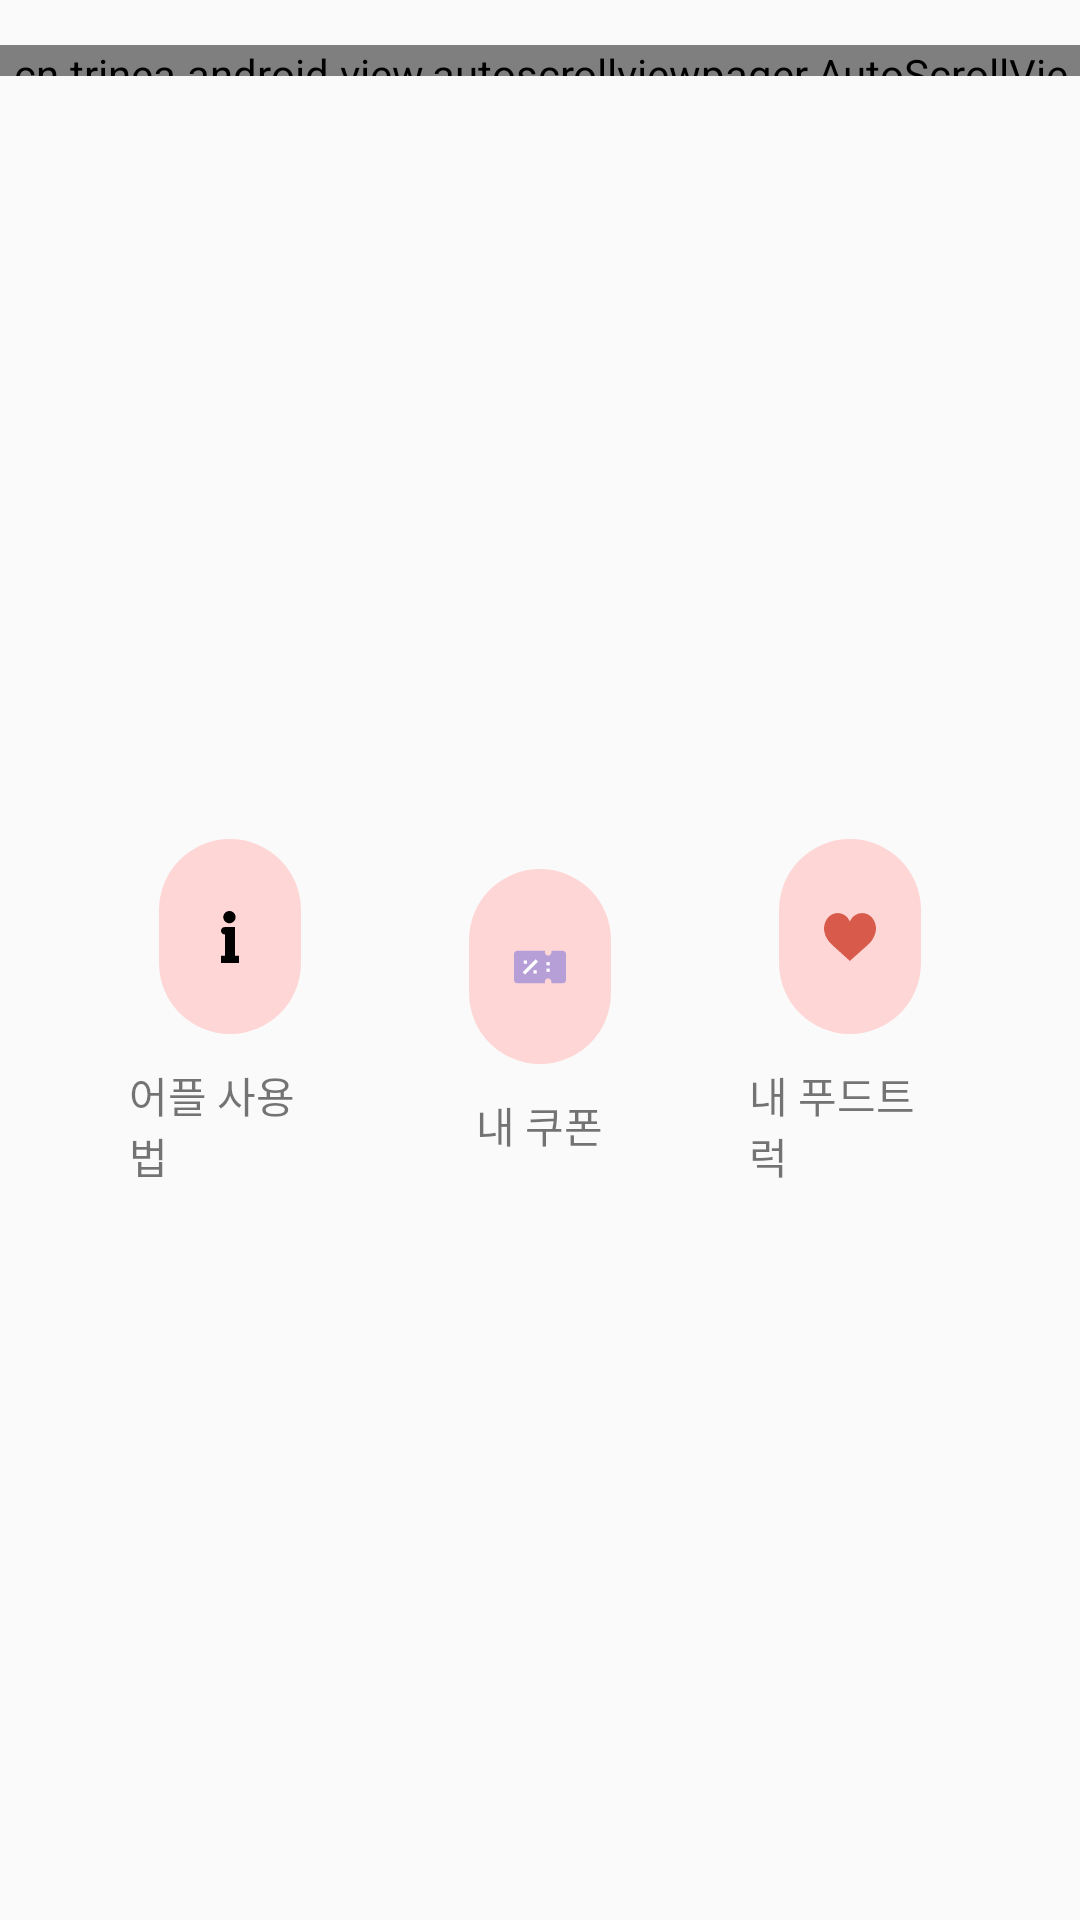

Screen size 1080x1920. Icon name, then its center in pixels as (x,y):
info: (230,936)
like: (850,936)
